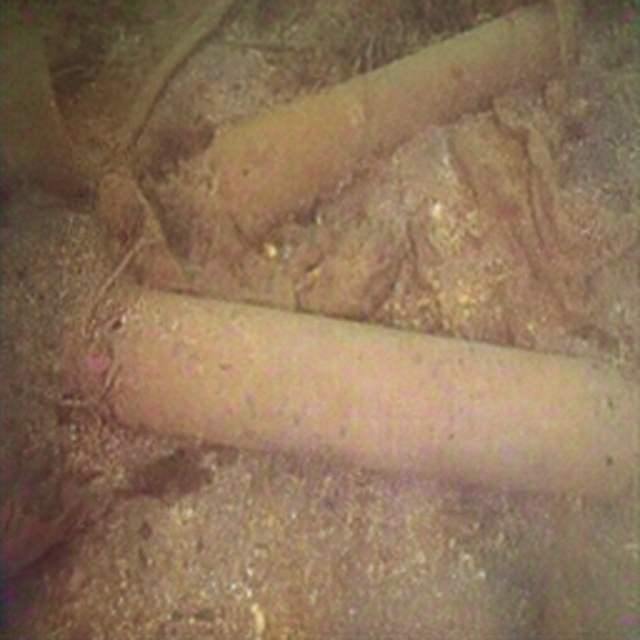mine: (64, 286, 638, 508), (198, 0, 584, 240)
